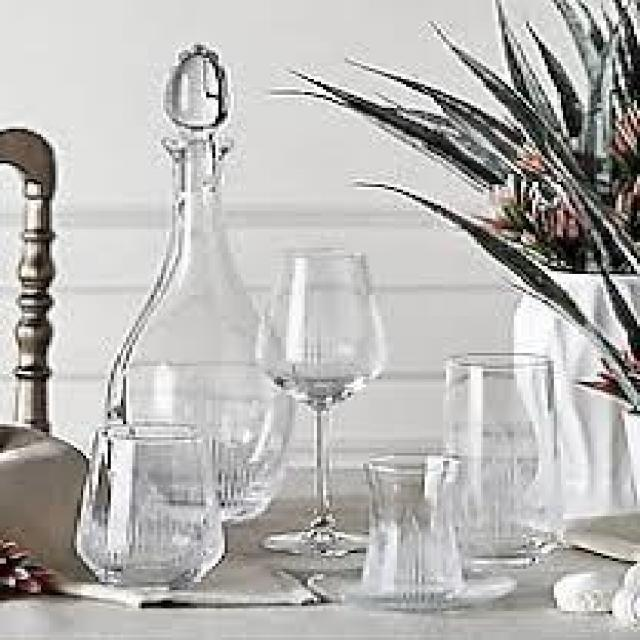non-organic waste: (97, 43, 297, 523), (306, 452, 528, 610), (72, 420, 236, 597)
